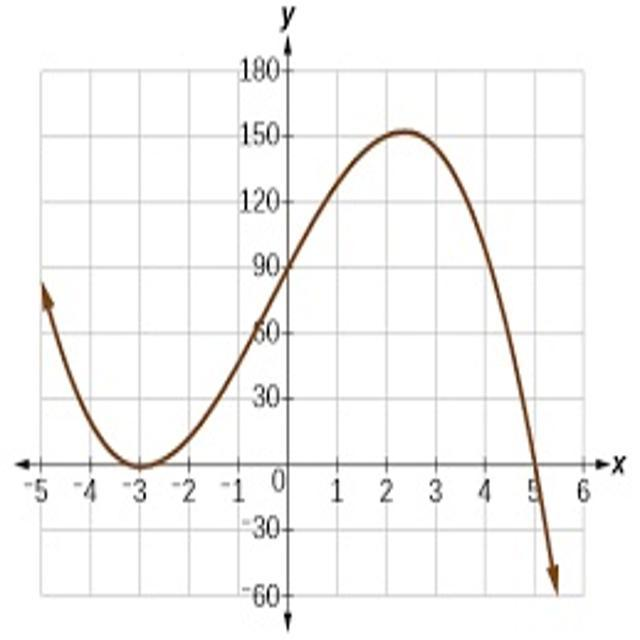axis: (12, 455, 614, 473), (282, 34, 295, 635)
line: (39, 126, 561, 589)
